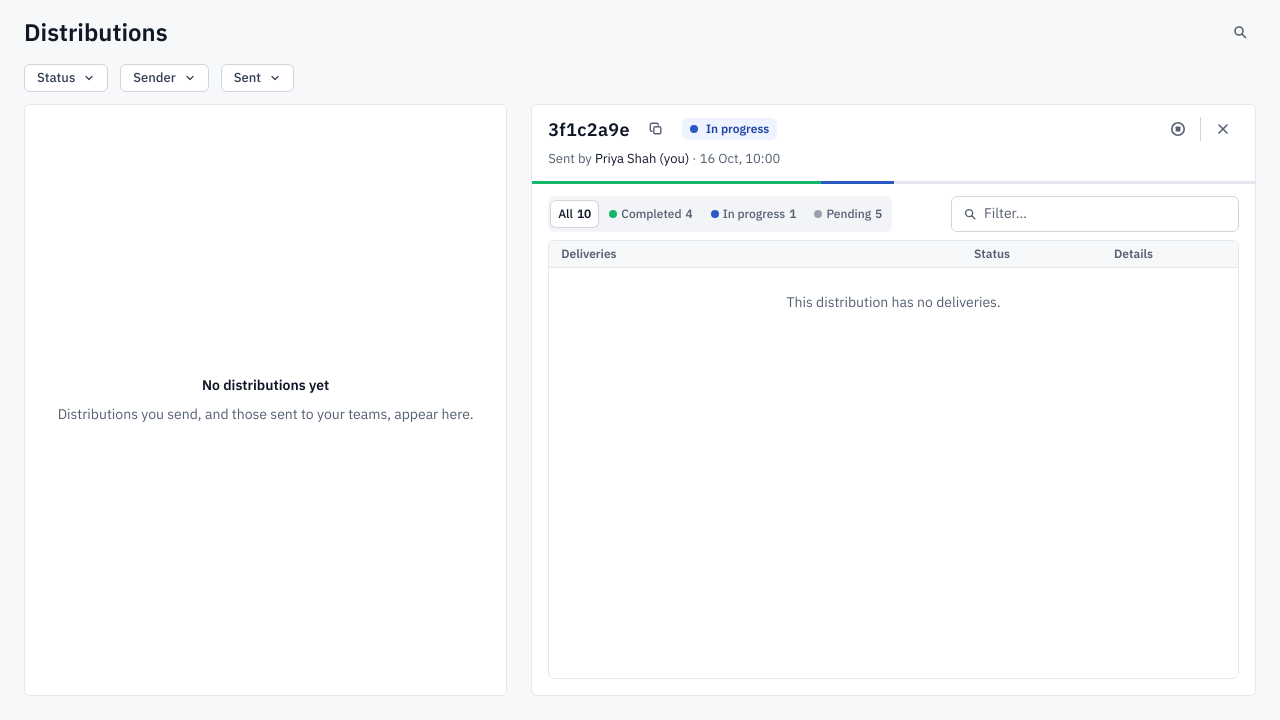
Test: Cancel and Retry › lets the sender cancel the waiting deliveries after a confirmation
What coordinates should you click on to do the following:
click the button named "Cancel distribution"
I would click on:
 (1178, 129)
Its box is [1162, 113, 1194, 145].
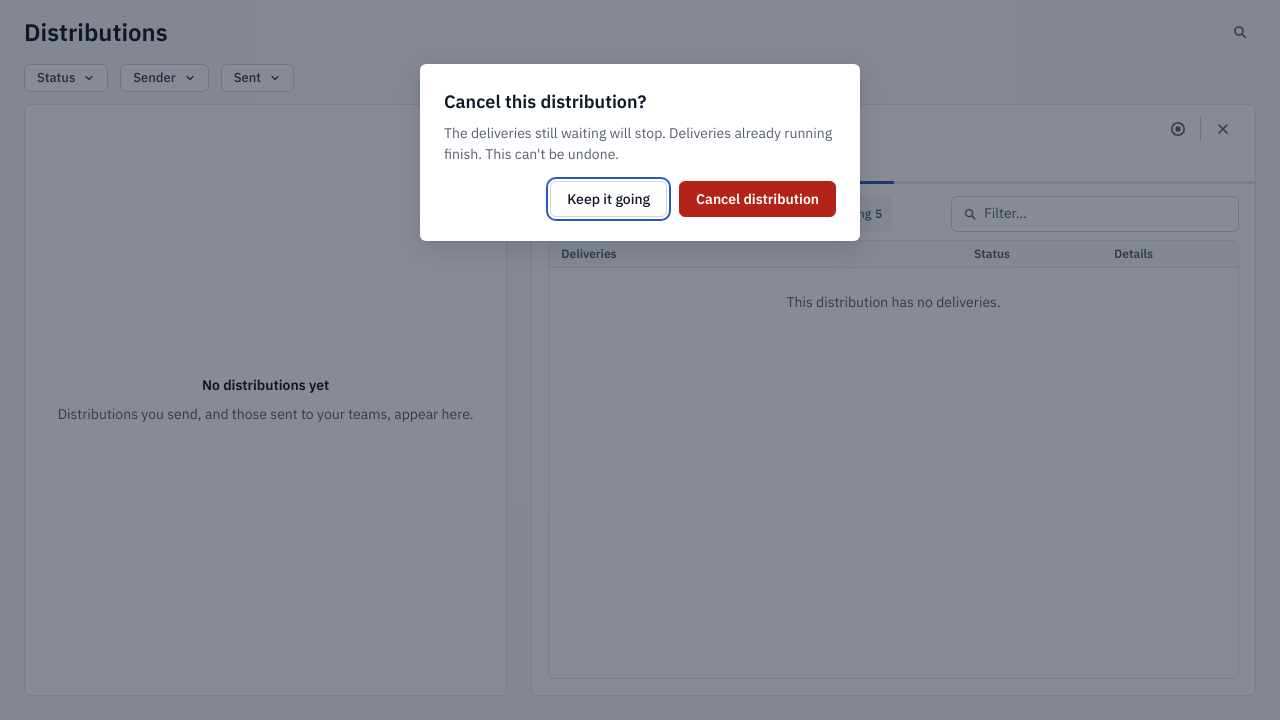
Result: the dialog "Cancel this distribution?" shows "The deliveries still waiting will stop. Deliveries already running finish. This can't be undone." at [444, 124, 832, 163]
What coordinates should you click on to do the following:
click the button "Cancel distribution"
I would click on:
 (758, 199)
Its box is [679, 181, 836, 217].
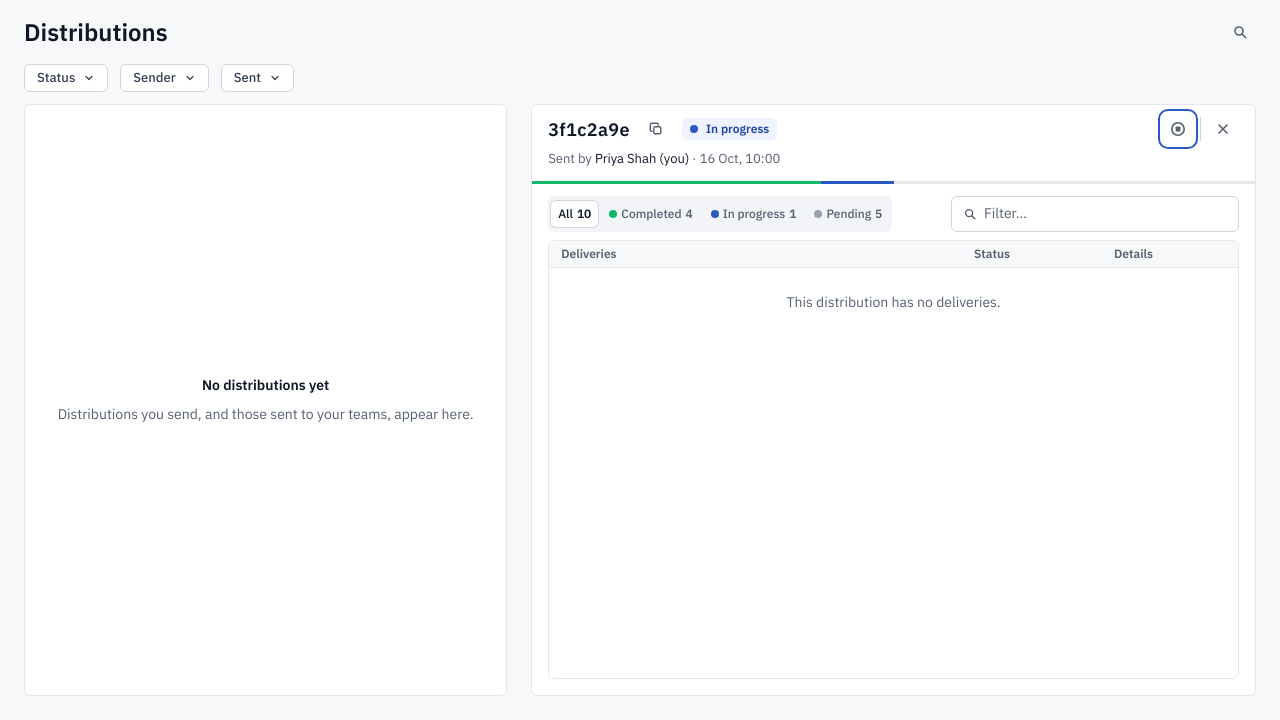
Result: the dialog is gone
